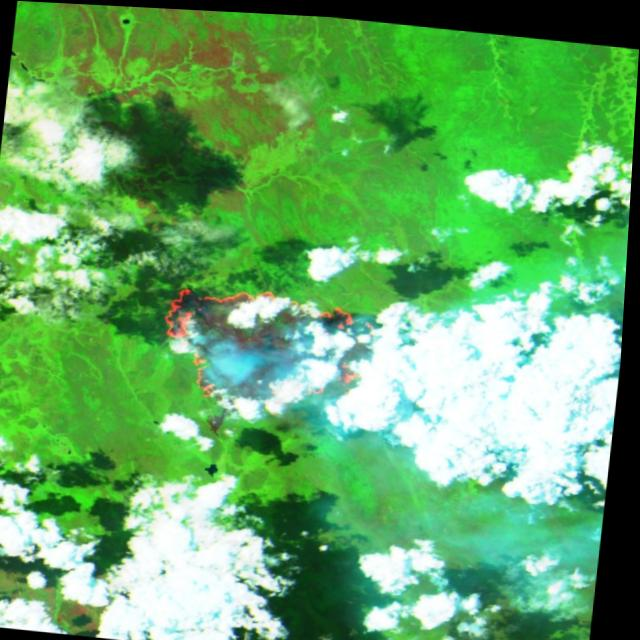fire: (159, 276, 386, 424)
